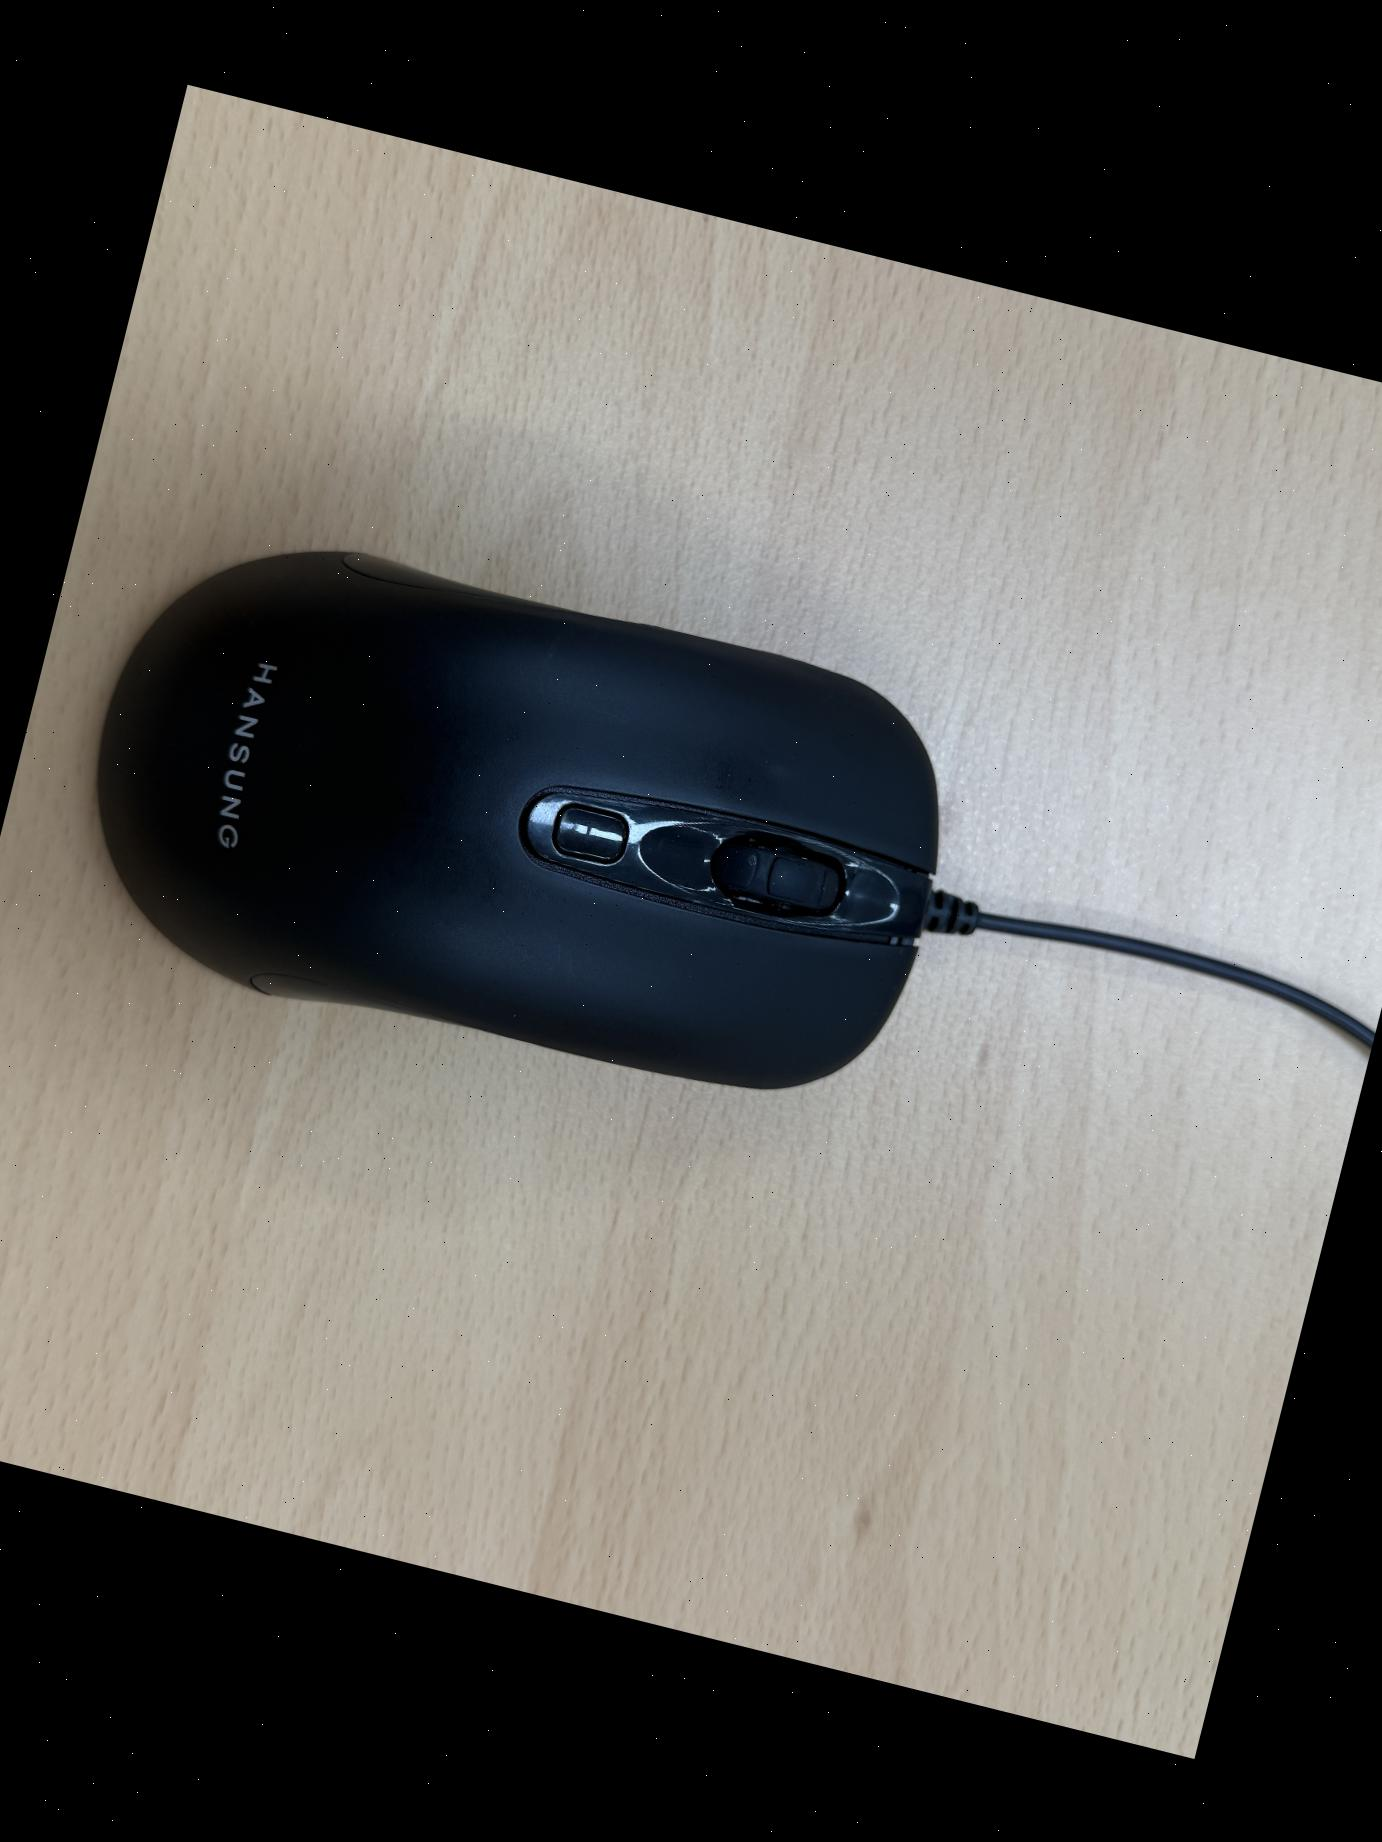front: (39, 494, 993, 1148)
